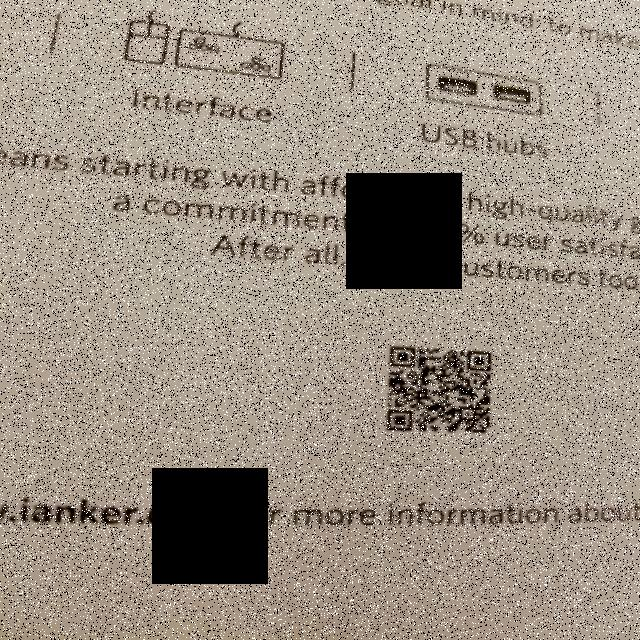QR_CODE: (368, 334, 507, 446)
